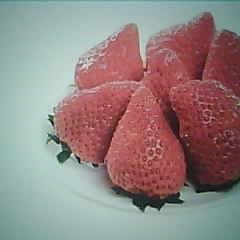straw-ripe: (107, 88, 185, 196), (51, 81, 138, 164)
